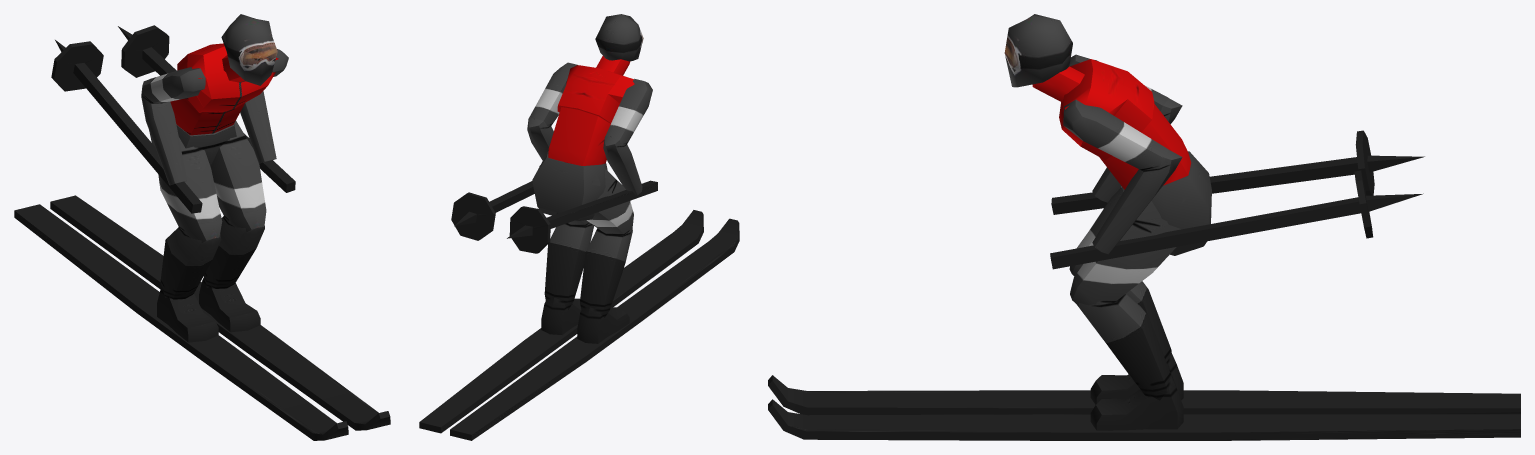
The model's file is a_skier(basic)_04_FINAL.fbx.
3 views of the same model, side by side, from view 1: azimuth 30°, elevation 25°; view 2: azimuth 150°, elevation 25°; view 3: azimuth 270°, elevation 25° (orthographic). The views are drawn at different scales.
Visible parts, largest first — view 1: right_ski, left_ski1, right_ski_pole, left_leg2, right_leg1, chest, head, lower_right_leg_1, left_ski_pole, lower_left_leg_2, lower_right_arm_1, right_foot (+5 smaller); view 2: right_ski, left_ski1, pelvis, lower_right_leg_1, right_ski_pole, lower_left_leg_2, stomach, chest, left_ski_pole, head, right_arm_1, right_leg1 (+6 smaller); view 3: left_ski1, right_ski, left_ski_pole, right_ski_pole, lower_left_leg_2, left_leg2, chest, head, left_arm_2, left_foot, pelvis, lower_left_arm_2 (+6 smaller).
Part boxes in pixels (x1,y1,x2,y2): right_ski: (14, 204, 348, 440); left_ski1: (50, 195, 390, 430); right_ski_pole: (51, 40, 202, 213); left_leg2: (210, 120, 266, 232); right_leg1: (158, 137, 222, 243); chest: (177, 43, 278, 112); head: (221, 14, 277, 85); lower_right_leg_1: (160, 227, 221, 299); left_ski_pole: (118, 25, 295, 192); lower_left_leg_2: (204, 216, 264, 288); lower_right_arm_1: (141, 79, 186, 185); right_foot: (157, 287, 218, 342); right_ski: (450, 218, 739, 440); left_ski1: (419, 210, 703, 433); pelvis: (532, 151, 607, 220); lower_right_leg_1: (580, 228, 632, 317); right_ski_pole: (507, 180, 657, 253); lower_left_leg_2: (544, 222, 593, 309); stomach: (548, 107, 610, 165); chest: (557, 65, 634, 123); left_ski_pole: (451, 181, 534, 240); head: (595, 14, 643, 61); right_arm_1: (606, 78, 652, 146); right_leg1: (586, 168, 633, 235); left_ski1: (768, 399, 1520, 440); right_ski: (768, 375, 1520, 415); left_ski_pole: (1050, 170, 1423, 269); right_ski_pole: (1051, 130, 1424, 214); lower_left_leg_2: (1077, 294, 1170, 400); left_leg2: (1070, 197, 1186, 306); chest: (1059, 59, 1154, 159); head: (1004, 14, 1072, 87); left_arm_2: (1063, 99, 1168, 171); left_foot: (1090, 376, 1183, 430); pelvis: (1122, 151, 1211, 255); lower_left_arm_2: (1092, 149, 1182, 254).
Size of the model in its own units: 0.00589 by 0.0165 by 0.0278.
